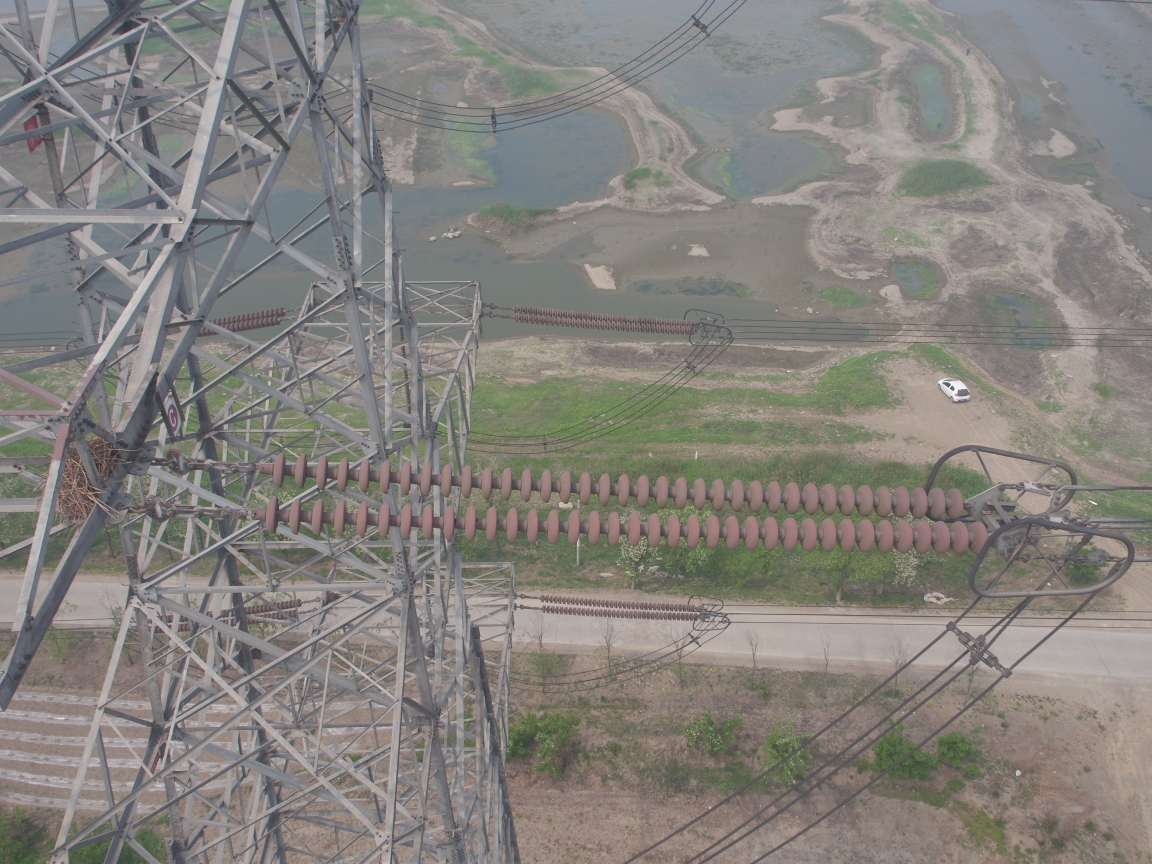insulator: (199, 451, 1002, 559), (503, 303, 699, 337), (530, 592, 701, 623)
